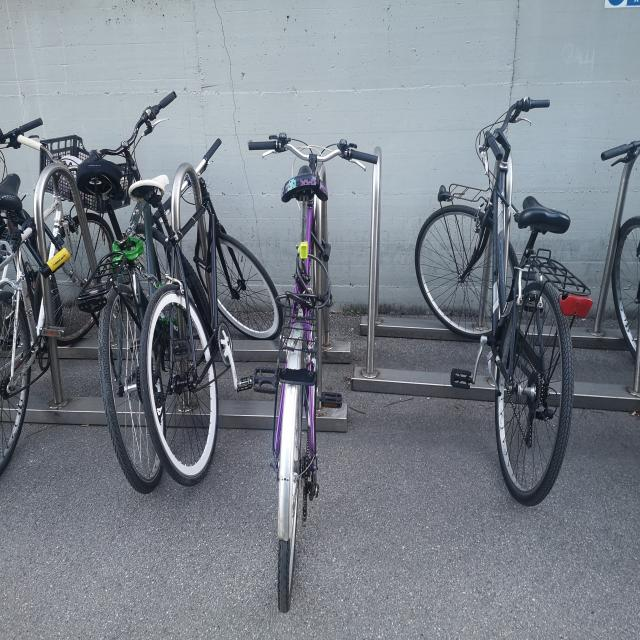Bicycle: (234, 94, 392, 640), (402, 99, 598, 518), (0, 98, 119, 480), (145, 121, 265, 488), (99, 156, 172, 516)
